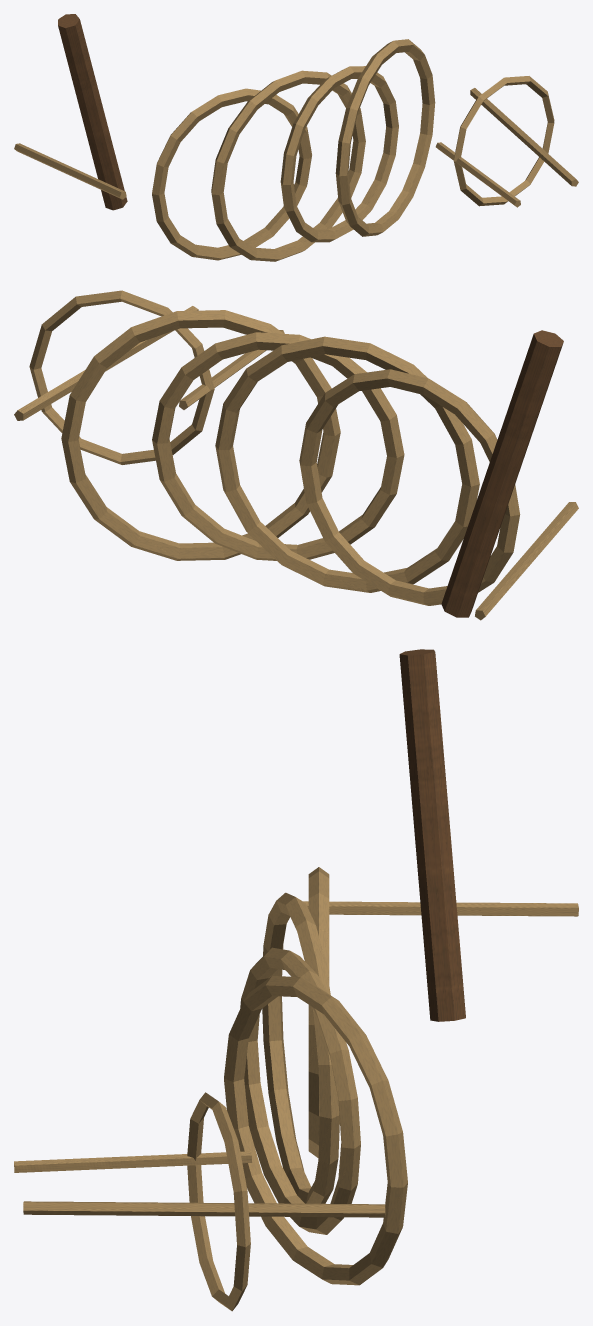
Rendered from en-019_signal_hill_dressing_set__ropes.obj.
3 renders of one model, top to bottom at view 1: azimuth 30°, elevation 25°; view 2: azimuth 150°, elevation 25°; view 3: azimuth 270°, elevation 25°, orthographic. The views are drawn at different scales.
Visible parts, largest first — view 1: en-019_signal_hill_dressing_set__ropes; view 2: en-019_signal_hill_dressing_set__ropes; view 3: en-019_signal_hill_dressing_set__ropes.
Part boxes in pixels (x1=…): en-019_signal_hill_dressing_set__ropes: x1=14, y1=14, x2=578, y2=261; en-019_signal_hill_dressing_set__ropes: x1=14, y1=290, x2=578, y2=620; en-019_signal_hill_dressing_set__ropes: x1=14, y1=649, x2=578, y2=1311.
Bounding box in the file's own units: 1.13 × 0.6277 × 0.7903.
Materials: 2 (2 with a texture image).
